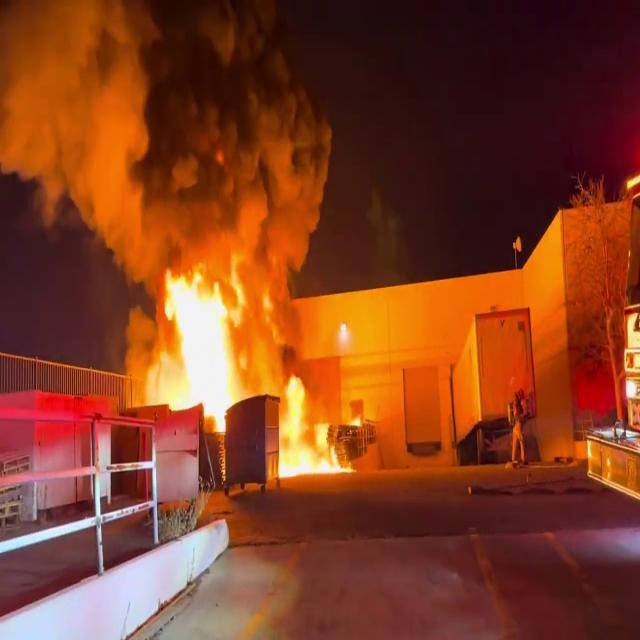Fire: (137, 261, 255, 431), (265, 351, 357, 484)
Smoke: (0, 0, 363, 284)
